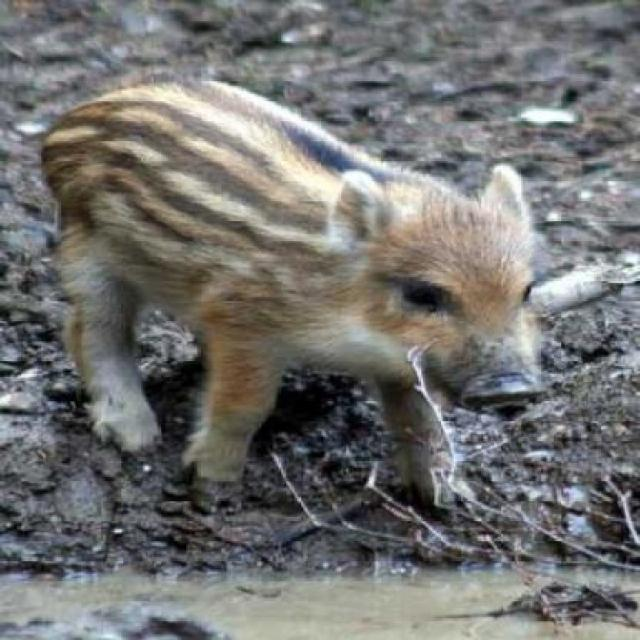pig: (21, 0, 553, 482)
